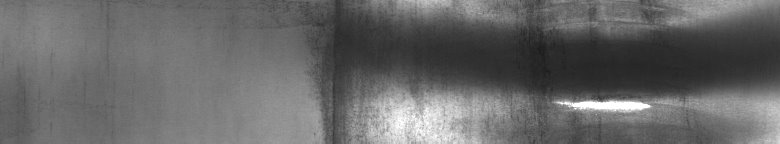ke: (411, 4, 704, 136)
